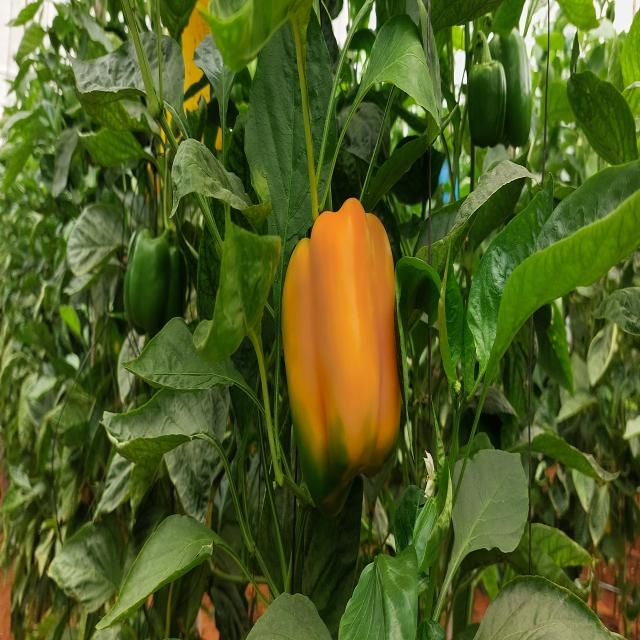Yellow-Ready-to-Harvest: (281, 200, 401, 460)
